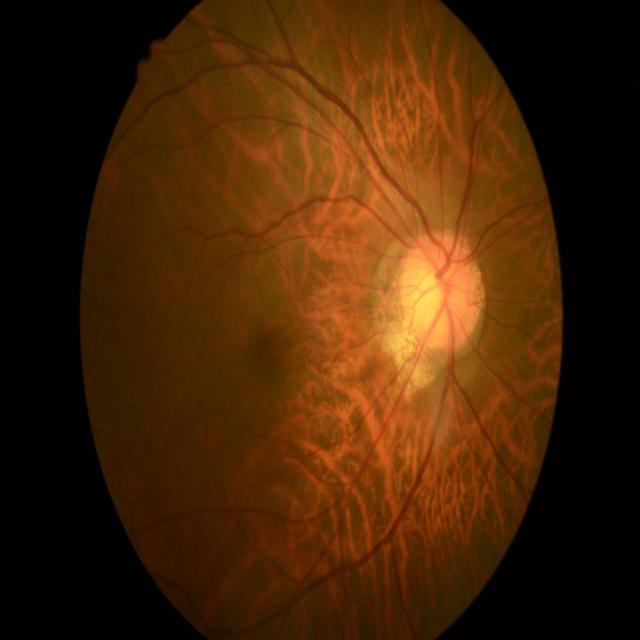cup: (412, 246, 450, 334)
disk: (400, 232, 484, 356)
